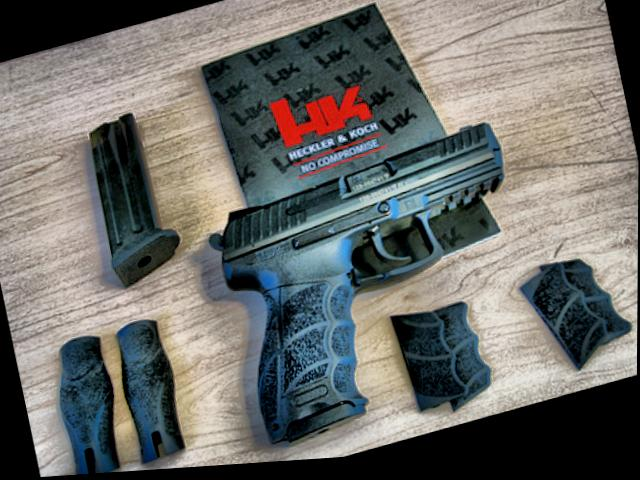pistol: (190, 117, 548, 456)
